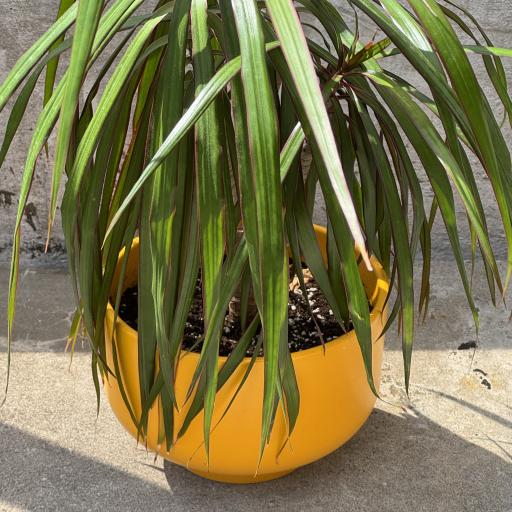Plant Pot: (102, 216, 390, 484)
